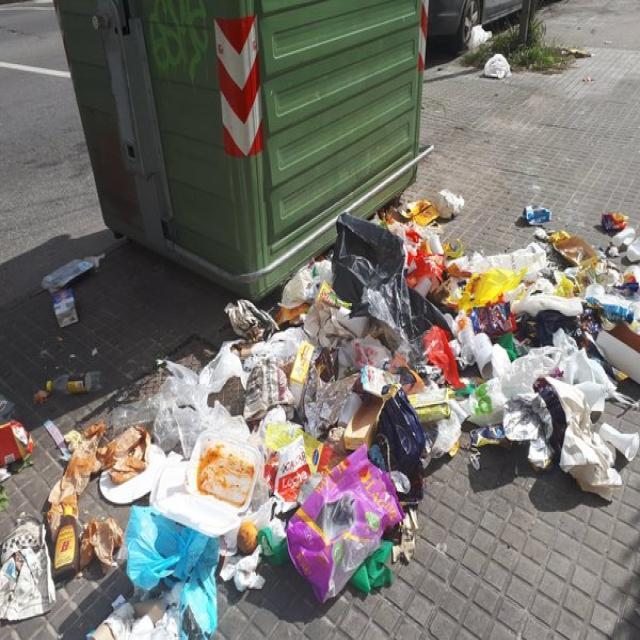garbage: (304, 186, 639, 461), (176, 312, 439, 632), (52, 388, 232, 639), (0, 504, 48, 638), (43, 246, 101, 353), (0, 391, 38, 506), (458, 23, 527, 84), (36, 366, 121, 410), (570, 453, 632, 508)
